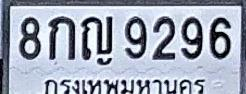2: (152, 15, 175, 60)
6: (210, 16, 230, 58)
8: (19, 16, 41, 59)
9: (124, 16, 146, 58), (181, 16, 202, 59)
A01: (48, 15, 75, 60)
A13: (81, 15, 113, 60)
BKK: (42, 75, 209, 94)
